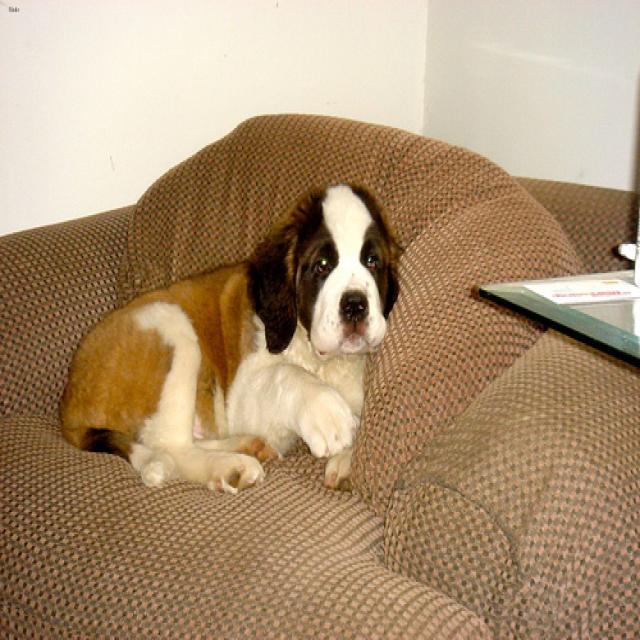dog-saint_bernard: (46, 176, 407, 502)
